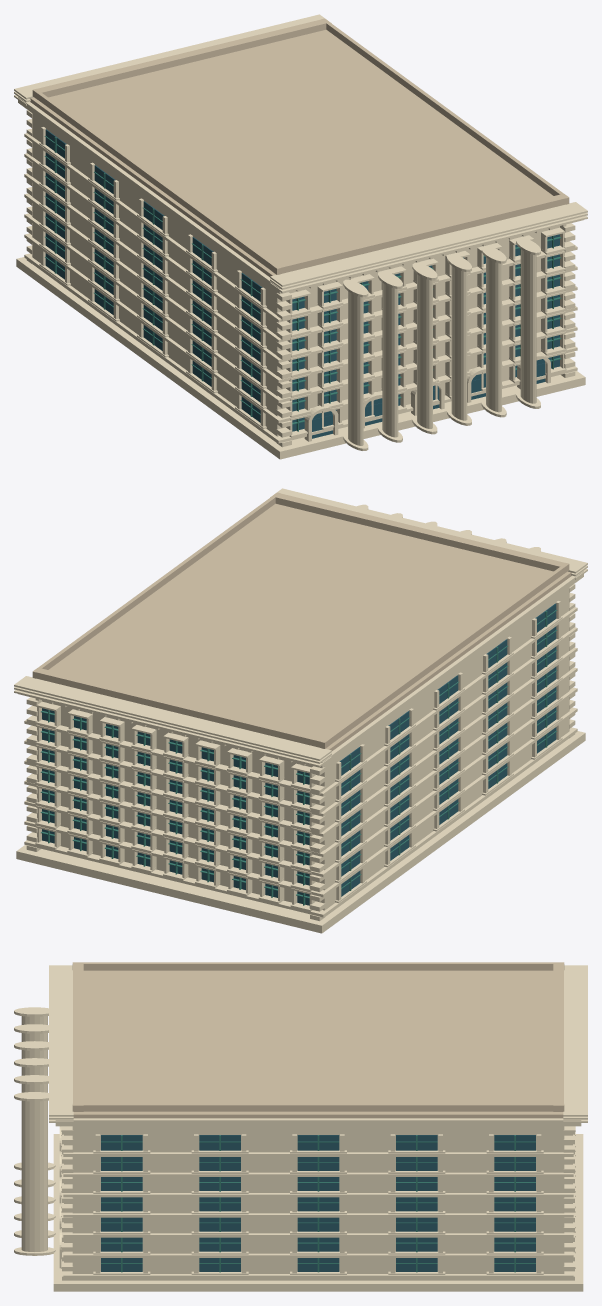
The model's file is yokohama-specie-bank.glb.
The picture shows the model from 3 angles, top to bottom: view 1: azimuth 30°, elevation 25°; view 2: azimuth 150°, elevation 25°; view 3: azimuth 270°, elevation 25°; orthographic projection.
Visible parts, largest first — view 1: yokohama-specie-bank; view 2: yokohama-specie-bank; view 3: yokohama-specie-bank.
Part boxes in pixels (x1,y1,x2,y2): yokohama-specie-bank: (14, 14, 587, 459); yokohama-specie-bank: (14, 488, 587, 933); yokohama-specie-bank: (14, 962, 587, 1291).
Size of the model in its own units: 41.79 by 23.8 by 67.68.
